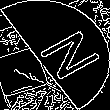N_SW: (17, 24, 93, 86)
